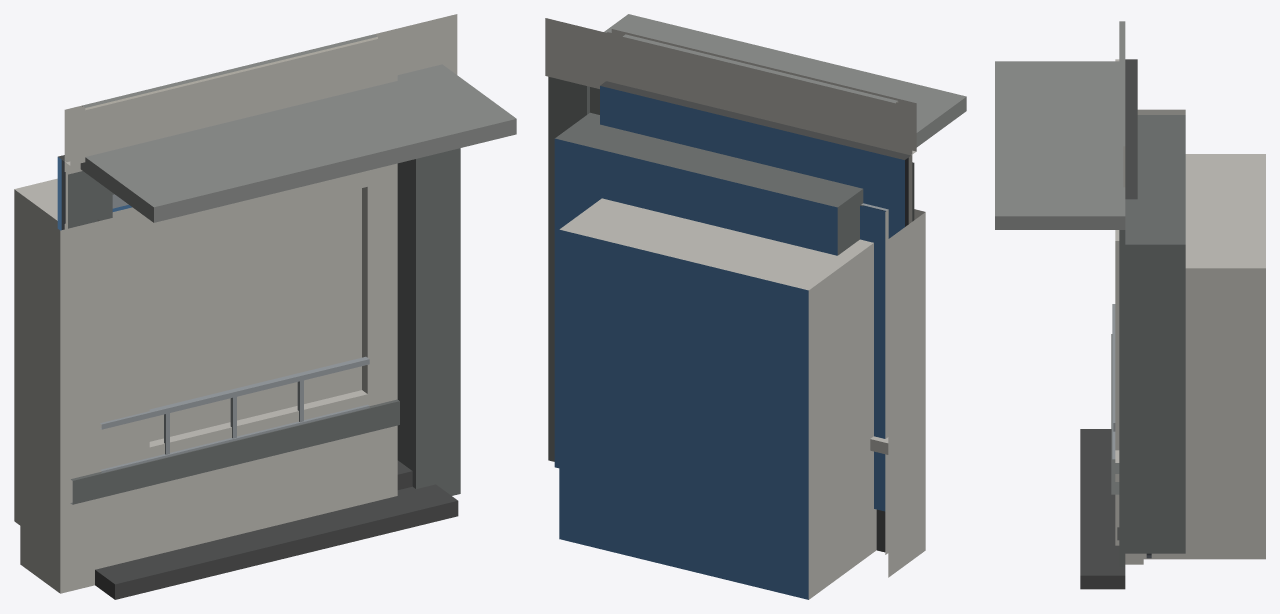
File: glassgranite.glb
3 views of the same model, side by side, from view 1: azimuth 30°, elevation 25°; view 2: azimuth 150°, elevation 25°; view 3: azimuth 270°, elevation 25° (orthographic). The views are drawn at different scales.
Parts seen in each view (by area): view 1: glassgranite_entrance, glassgranite_blank, glassgranite_cap, glassgranite_bay, glassgranite_pier, glassgranite_corner, glassgranite_lobby, glassgranite_bay_gallery, glassgranite_shop; view 2: glassgranite_bay_gallery, glassgranite_entrance, glassgranite_lobby, glassgranite_corner, glassgranite_shop; view 3: glassgranite_entrance, glassgranite_bay_gallery, glassgranite_lobby, glassgranite_bay, glassgranite_shop, glassgranite_cap.
Part boxes in pixels (x1,y1,x2,y2): glassgranite_entrance: (64,14,516,599); glassgranite_blank: (64,188,361,441); glassgranite_cap: (70,388,399,590); glassgranite_bay: (70,163,397,589); glassgranite_pier: (70,212,149,591); glassgranite_corner: (20,201,129,593); glassgranite_lobby: (57,34,397,230); glassgranite_bay_gallery: (14,178,369,525); glassgranite_shop: (65,31,392,228); glassgranite_bay_gallery: (559,198,876,599); glassgranite_entrance: (545,14,966,468); glassgranite_lobby: (600,29,916,238); glassgranite_corner: (888,210,925,577); glassgranite_shop: (607,32,912,554); glassgranite_entrance: (995,61,1185,589); glassgranite_bay_gallery: (1112,154,1265,559); glassgranite_lobby: (1115,59,1137,540); glassgranite_bay: (1115,230,1119,545); glassgranite_shop: (1119,21,1151,564); glassgranite_cap: (1111,334,1119,494).
Size of what is drawn, in the model's own units: 4.06 by 4.6 by 2.7.
